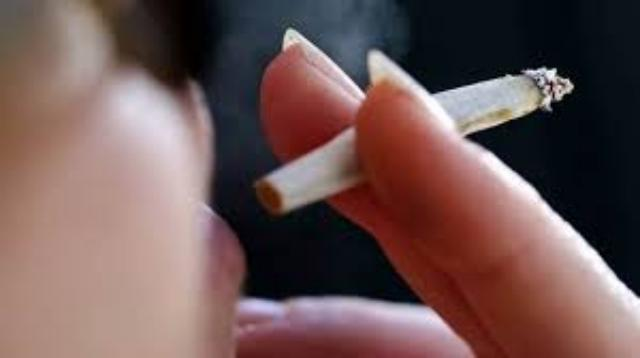Smoking: (258, 68, 574, 214)
